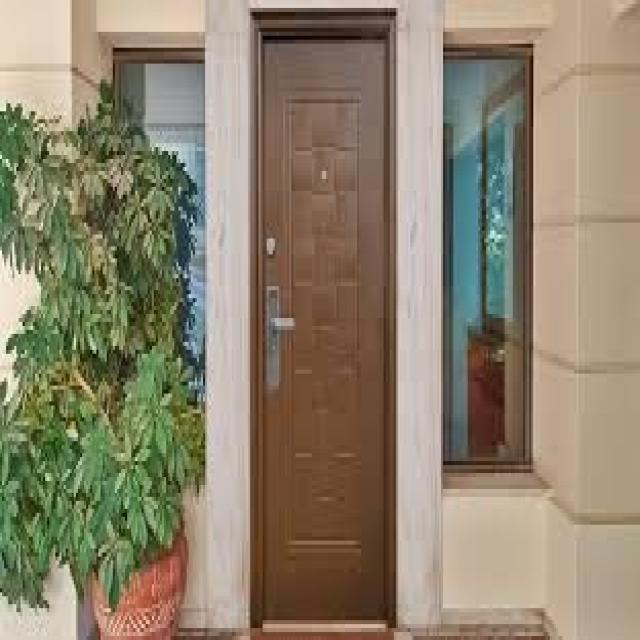door: (255, 20, 395, 628)
